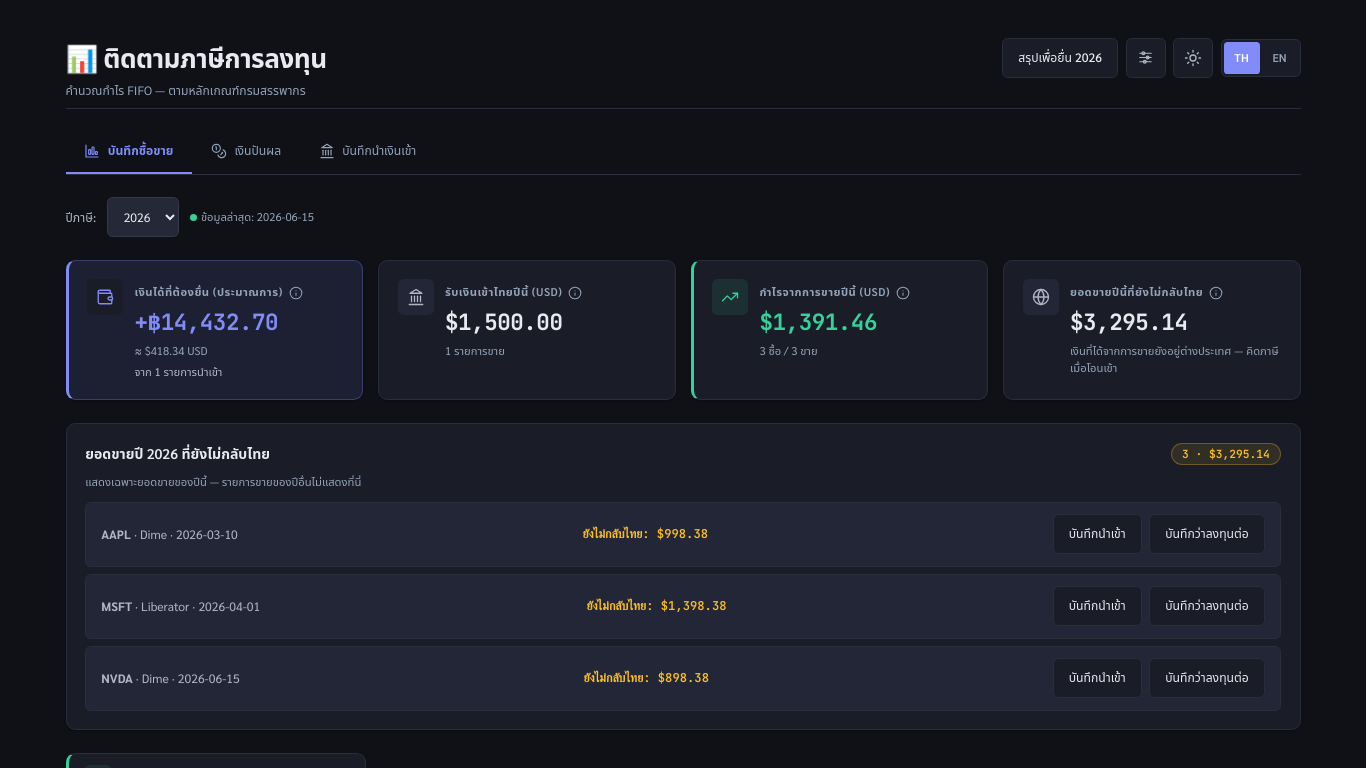
it: tab navigation placement › keeps the tab nav before the first dividend card after switching tabs
Click the tab with class "tab-btn" showing "เงินปันผล" at (246, 152), box [192,131,300,174]
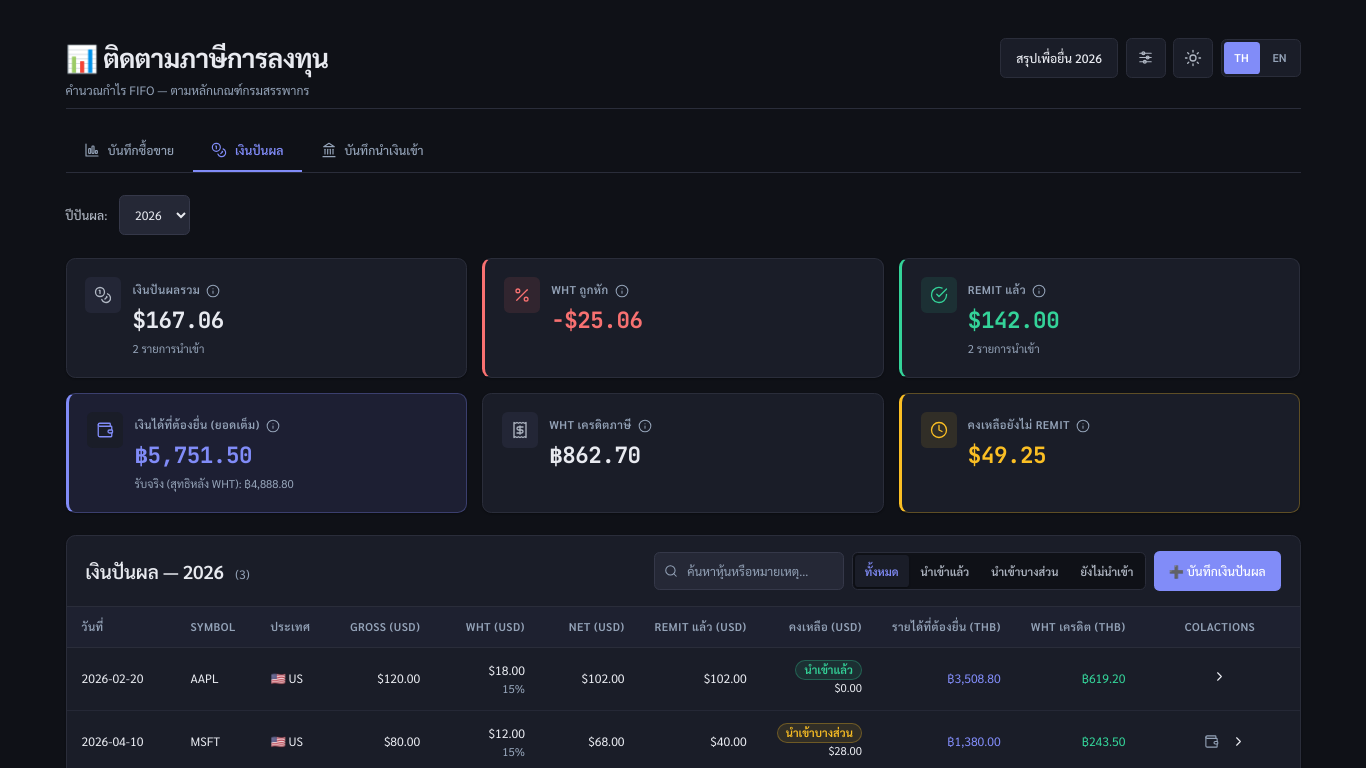
Expected: the element with class "kpi-card" is shown, [66,258,1300,513]
